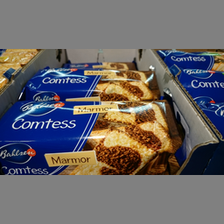cake: (1, 97, 194, 175), (18, 62, 163, 100)
